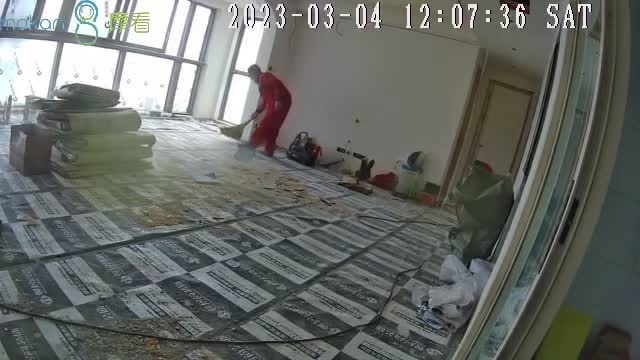people: (247, 63, 291, 156)
window: (1, 1, 216, 116)
